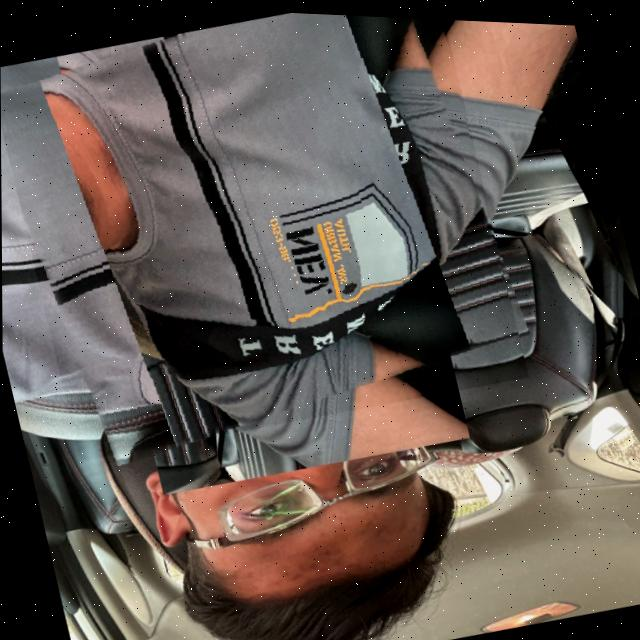no-seatbelt: (0, 0, 528, 475)
